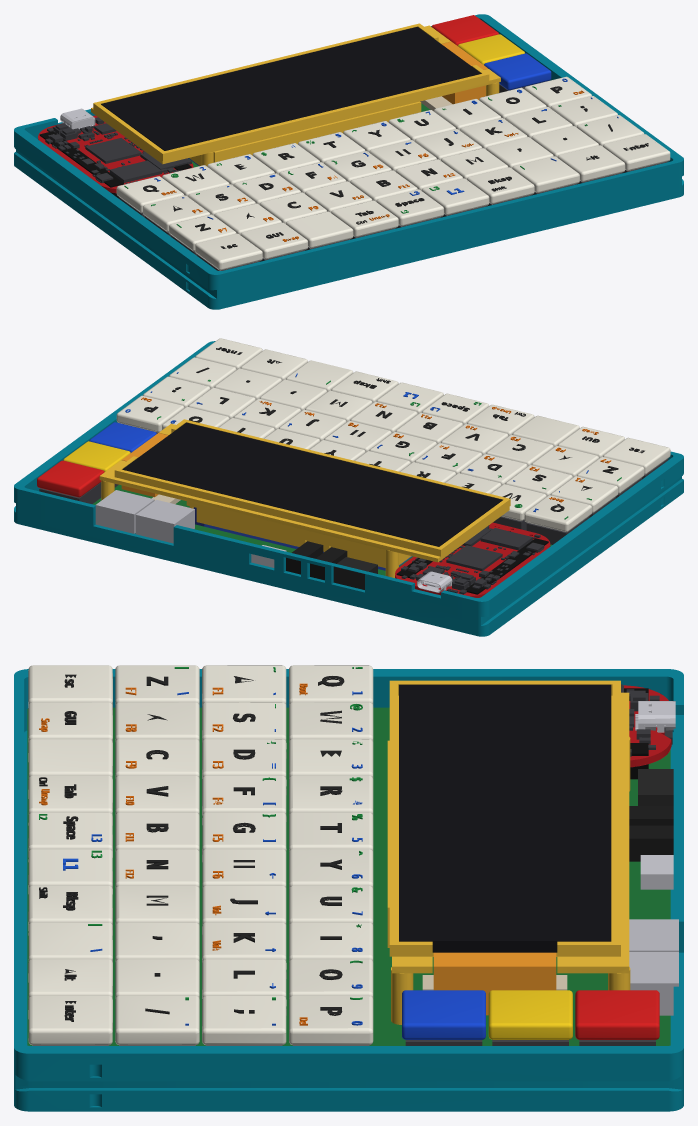
Rendered from open_bondi.glb.
3 renders of one model, top to bottom at view 1: azimuth 30°, elevation 25°; view 2: azimuth 150°, elevation 25°; view 3: azimuth 270°, elevation 25°, orthographic. The views are drawn at different scales.
Parts seen in each view (by area): view 1: Internals, Tray; view 2: Internals, Tray; view 3: Internals, Tray.
Boxes of the visible parts, x1,y1,x2,y2 form: Internals: (38, 15, 670, 270); Tray: (14, 14, 683, 309); Internals: (37, 338, 670, 597); Tray: (14, 341, 683, 636); Internals: (27, 665, 678, 1045); Tray: (14, 669, 683, 1111).
Bounding box in the file's own units: 0.1782 × 0.0211 × 0.1312.
